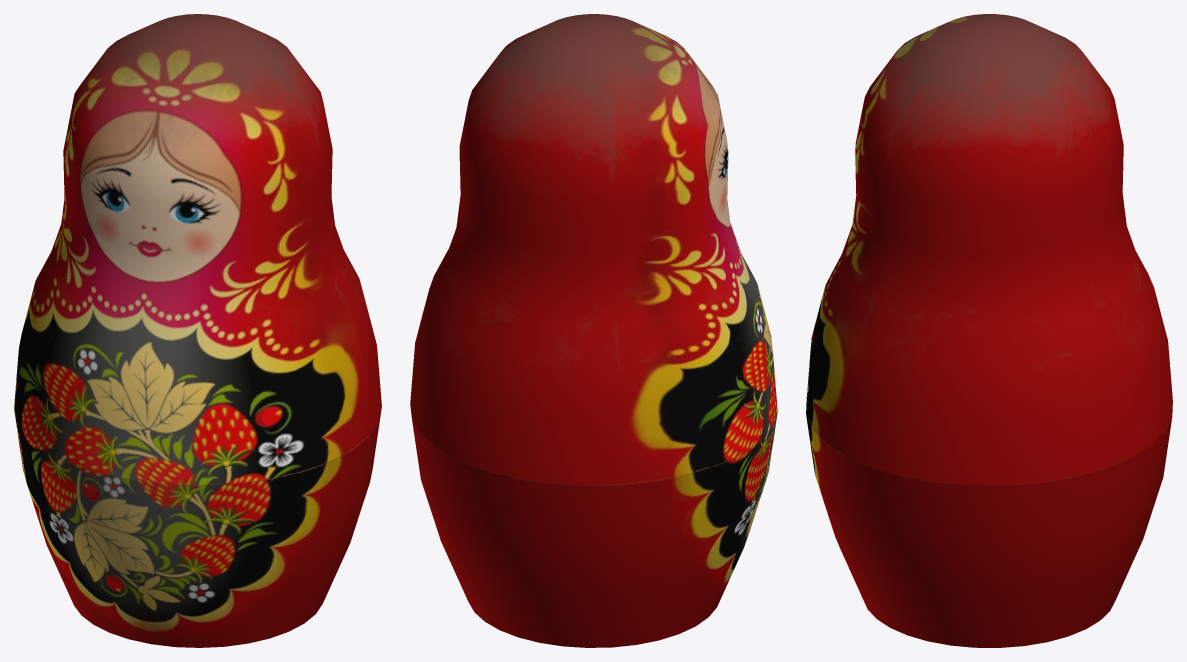
File: animated_newDoll2.glb
3 renders of one model, left to right at view 1: azimuth 30°, elevation 25°; view 2: azimuth 150°, elevation 25°; view 3: azimuth 270°, elevation 25°, orthographic.
Visible parts, largest first — view 1: Matroska top, Matroska bottom__0; view 2: Matroska top, Matroska bottom__0; view 3: Matroska top, Matroska bottom__0.
Part boxes in pixels (bbox=[...]): Matroska top: bbox=[14, 14, 381, 485]; Matroska bottom__0: bbox=[14, 409, 381, 647]; Matroska top: bbox=[410, 14, 777, 485]; Matroska bottom__0: bbox=[412, 412, 777, 647]; Matroska top: bbox=[806, 14, 1172, 485]; Matroska bottom__0: bbox=[806, 414, 1172, 647].
Bounding box in the file's own units: 0.4566 × 0.7789 × 0.4566.
Materials: 1 (1 with a texture image).
